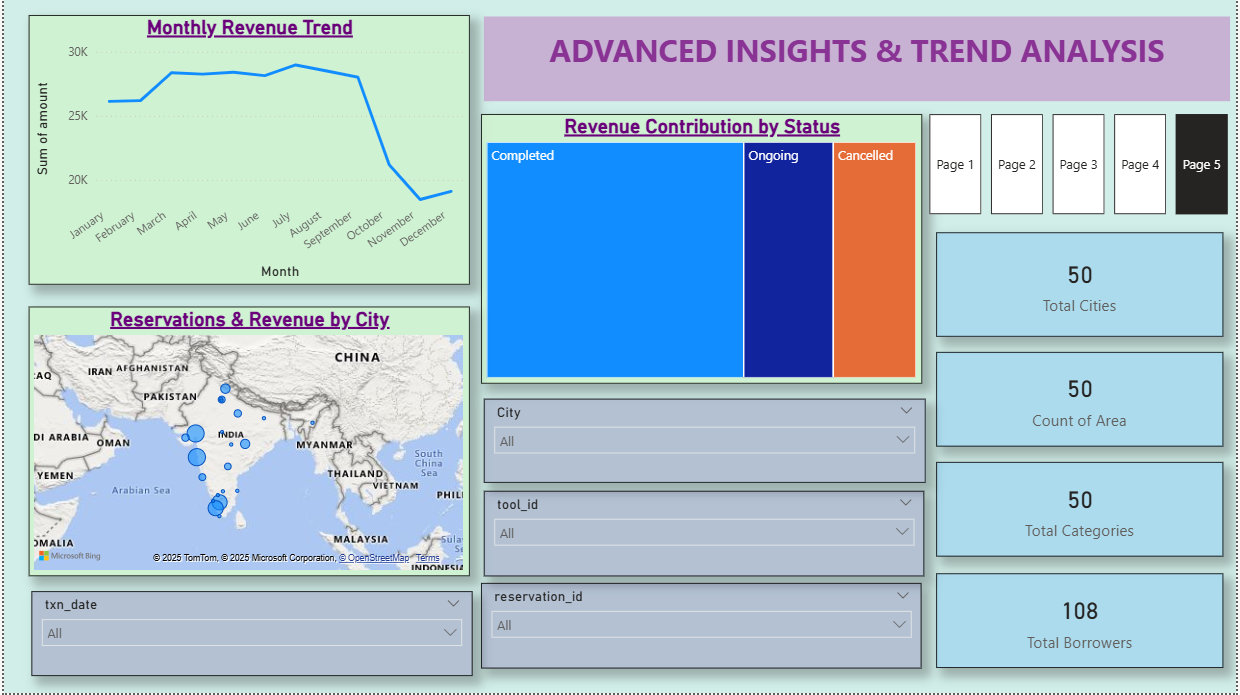

What the dashboard file says about the page in this screenshot:
{"tool":"powerbi","page":{"name":"Page 5","canvas":[1280,720],"ordinal":4},"visuals":[{"type":"lineChart","title":"Monthly Revenue Trend","fields":{"Y":["Sum(Transactions.amount)"],"Category":["Transactions.txn_date.Variation.Date Hierarchy.Month"]},"box":[26,16,458,280],"z":0},{"type":"treemap","title":"Revenue Contribution by Status","fields":{"Group":["Reservations.status"],"Values":["Sum(Transactions.amount)"]},"box":[496,118,458,280],"z":1000},{"type":"map","title":"Reservations & Revenue by City","fields":{"Size":["select","CountNonNull(Transactions.reservation_id)"],"Category":["Locations.City"]},"box":[26,318,458,280],"z":2000},{"type":"slicer","fields":{"Values":["Locations.City"]},"box":[498.6,414.3,458.6,87.1],"z":3000},{"type":"slicer","fields":{"Values":["Reservations.tool_id"]},"box":[498,509.3,457.7,88.6],"z":4000},{"type":"slicer","fields":{"Values":["Transactions.reservation_id"]},"box":[496.4,606,457.7,88.6],"z":5000},{"type":"slicer","fields":{"Values":["Transactions.txn_date"]},"box":[28,614,458,88],"z":6000},{"type":"card","fields":{"Values":["Count(Locations.City)"]},"box":[968,242,298,108],"z":7000},{"type":"card","fields":{"Values":["Count(Locations.Area)"]},"box":[968,366,298,98],"z":8000},{"type":"card","fields":{"Values":["Count(Categories.category_name)"]},"box":[968.7,480.3,298.2,98.3],"z":9000},{"type":"card","fields":{"Values":["Count(Reservations.borrower_id)"]},"box":[968.7,596.3,298.2,98.3],"z":10000},{"type":"pageNavigator","box":[962,118,312,104],"z":11000},{"type":"textbox","box":[498.3,16.7,775,88.3],"z":12000}]}

Visuals, with their boxes in screenshot pixels (x1, y1, x2, y2), scaled from the page's 1280x720 canvas onto the 1240x695 screenshot:
"Monthly Revenue Trend" lineChart: bbox=[25, 15, 469, 286]
"Revenue Contribution by Status" treemap: bbox=[480, 114, 924, 384]
"Reservations & Revenue by City" map: bbox=[25, 307, 469, 577]
slicer - Locations.City: bbox=[483, 400, 927, 484]
slicer - Reservations.tool_id: bbox=[482, 492, 926, 577]
slicer - Transactions.reservation_id: bbox=[481, 585, 924, 670]
slicer - Transactions.txn_date: bbox=[27, 593, 471, 678]
card - Count(Locations.City): bbox=[938, 234, 1226, 338]
card - Count(Locations.Area): bbox=[938, 353, 1226, 448]
card - Count(Categories.category_name): bbox=[938, 464, 1227, 559]
card - Count(Reservations.borrower_id): bbox=[938, 576, 1227, 670]
pageNavigator: bbox=[932, 114, 1234, 214]
textbox: bbox=[483, 16, 1234, 101]
